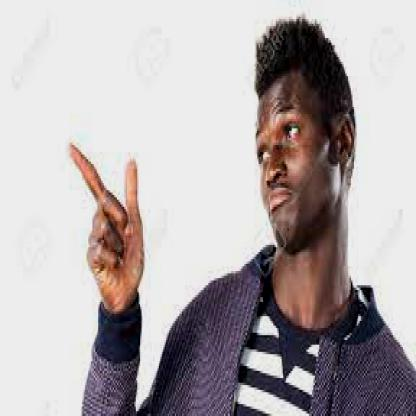Right: (59, 125, 161, 309)
